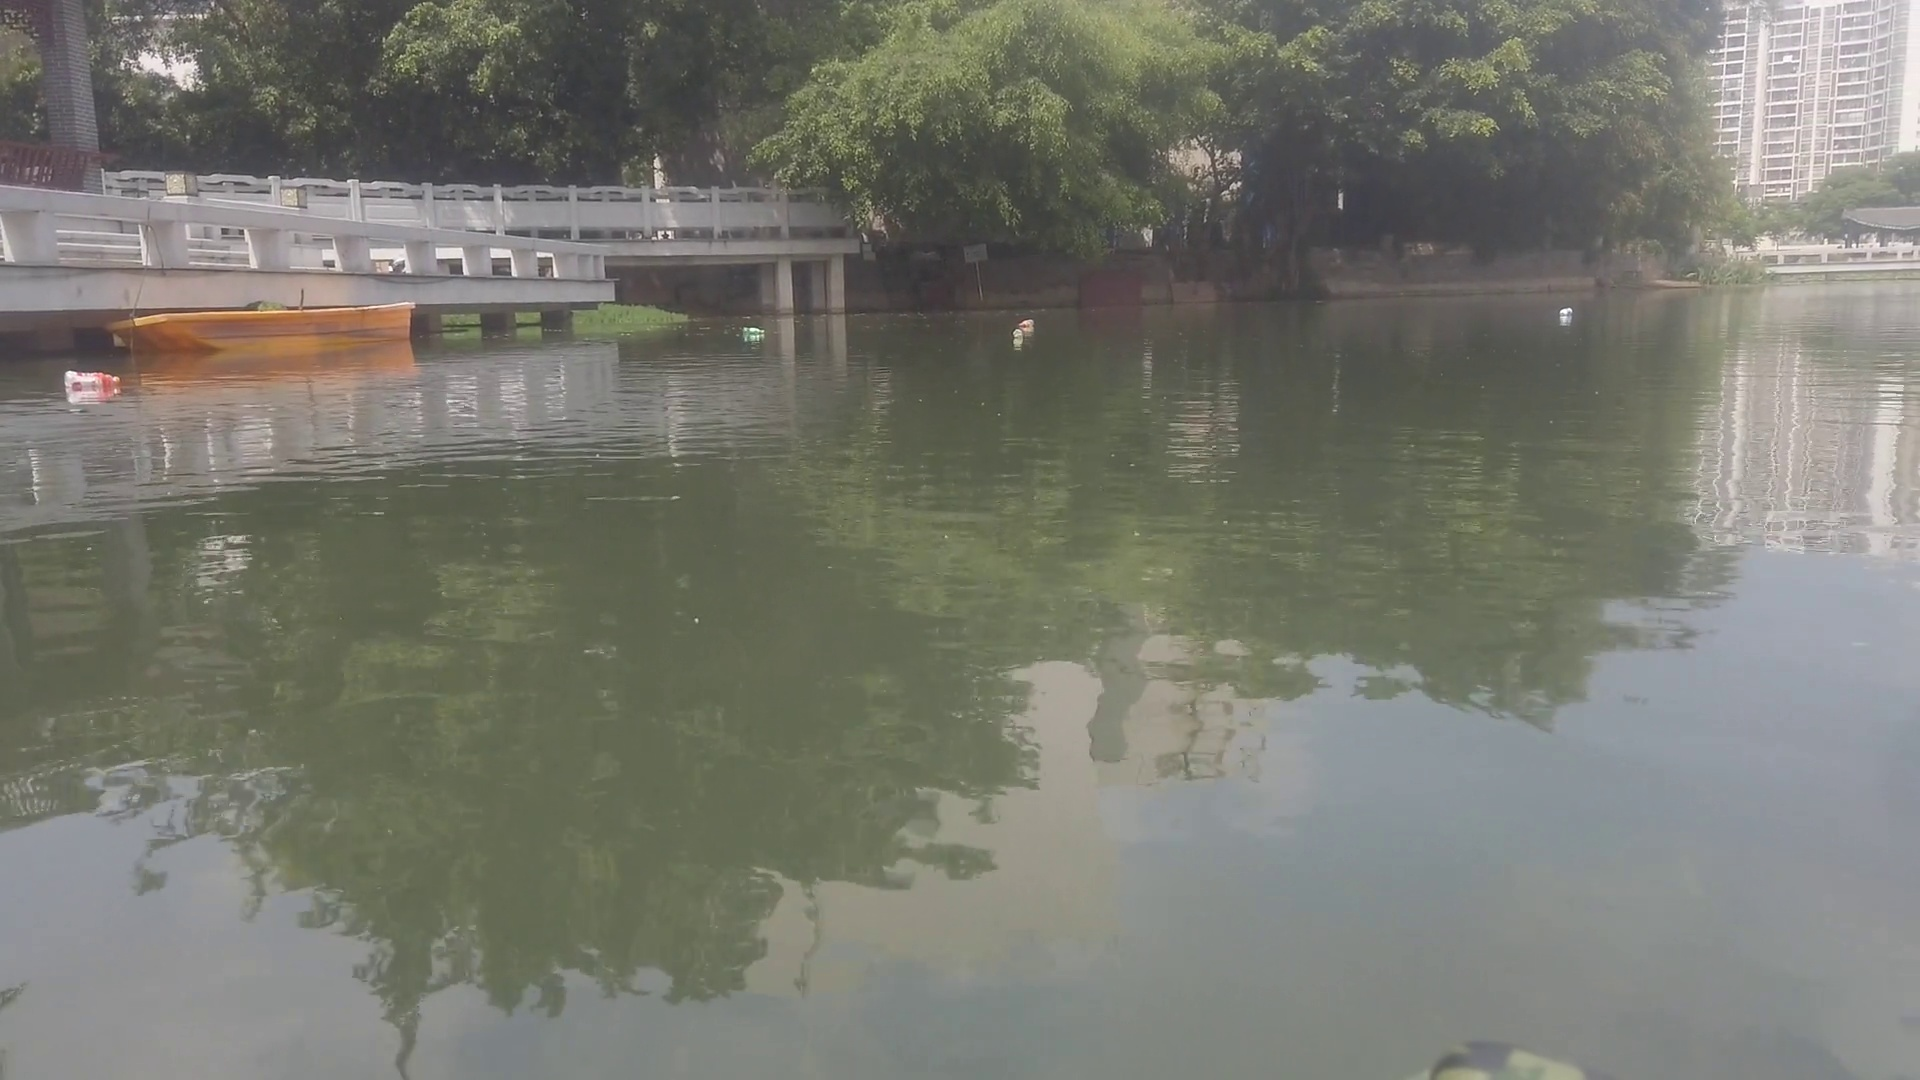bottle: (58, 367, 124, 390), (1555, 302, 1578, 320), (744, 324, 767, 338), (1017, 316, 1036, 330), (1009, 328, 1025, 340)
